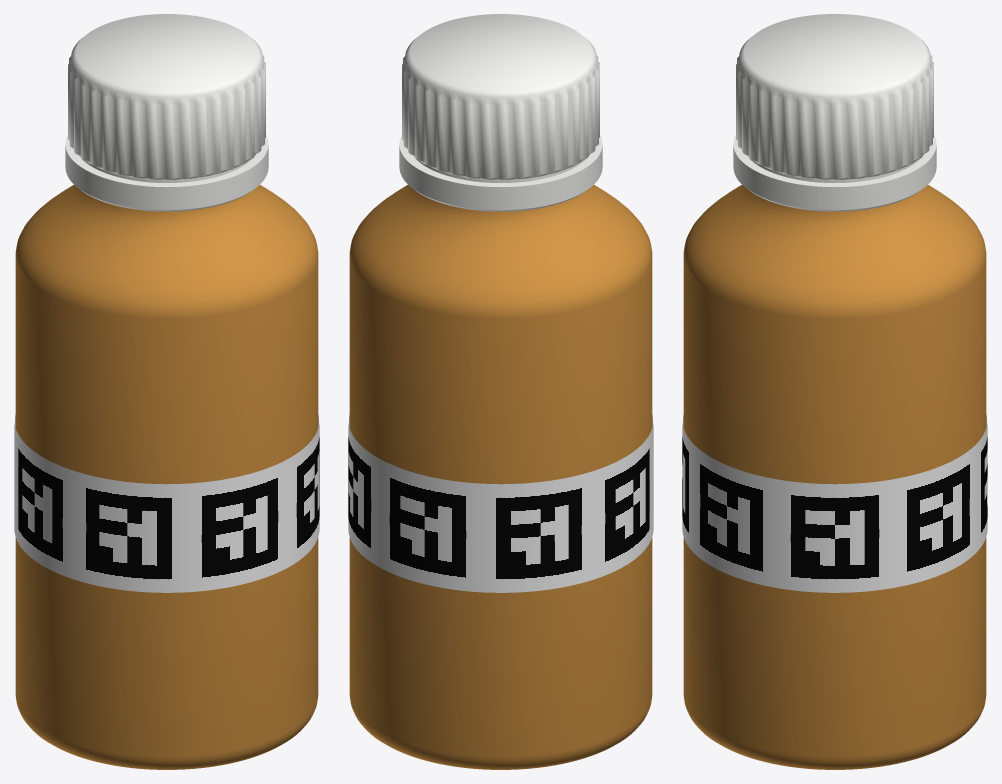
Rendered from SMP-0080_2001165904750.glb.
The picture shows the model from 3 angles, left to right: view 1: azimuth 30°, elevation 25°; view 2: azimuth 150°, elevation 25°; view 3: azimuth 270°, elevation 25°; orthographic projection.
Parts seen in each view (by area): view 1: Bottle_100ml, Cap_100ml_PP28, Label_SMP-0080; view 2: Bottle_100ml, Cap_100ml_PP28, Label_SMP-0080; view 3: Bottle_100ml, Cap_100ml_PP28, Label_SMP-0080.
Part boxes in pixels (x1,y1,x2,y2): Bottle_100ml: (15, 185, 318, 769); Cap_100ml_PP28: (65, 14, 268, 211); Label_SMP-0080: (14, 414, 319, 592); Bottle_100ml: (349, 185, 652, 769); Cap_100ml_PP28: (399, 14, 602, 211); Label_SMP-0080: (348, 414, 653, 592); Bottle_100ml: (683, 185, 986, 769); Cap_100ml_PP28: (733, 14, 936, 211); Label_SMP-0080: (682, 414, 987, 592).
Size of the model in its own units: 0.0478 by 0.1142 by 0.0478.
Materials: 4 (1 with a texture image).
